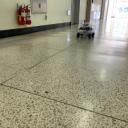cart: (76, 24, 96, 39)
